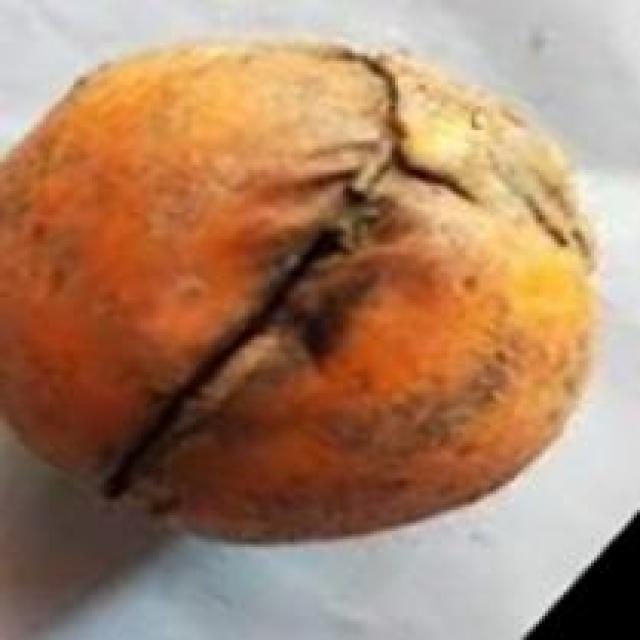damaged: (0, 37, 594, 539)
